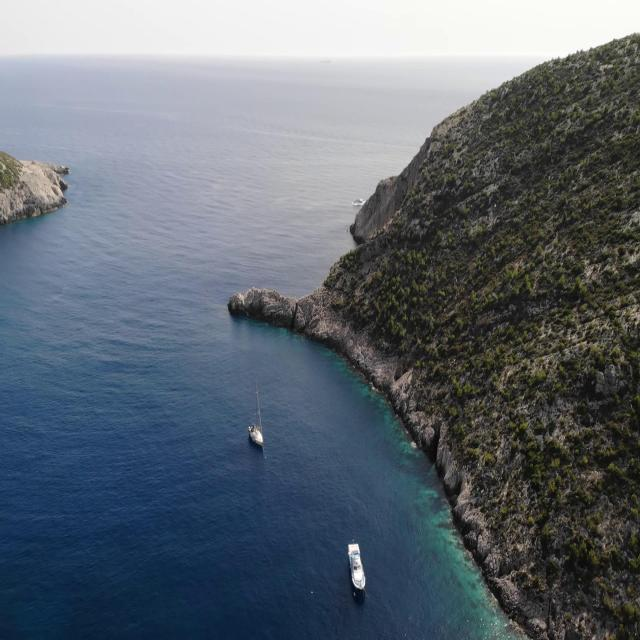boat: (346, 542, 366, 591)
sailboat: (247, 378, 264, 455)
